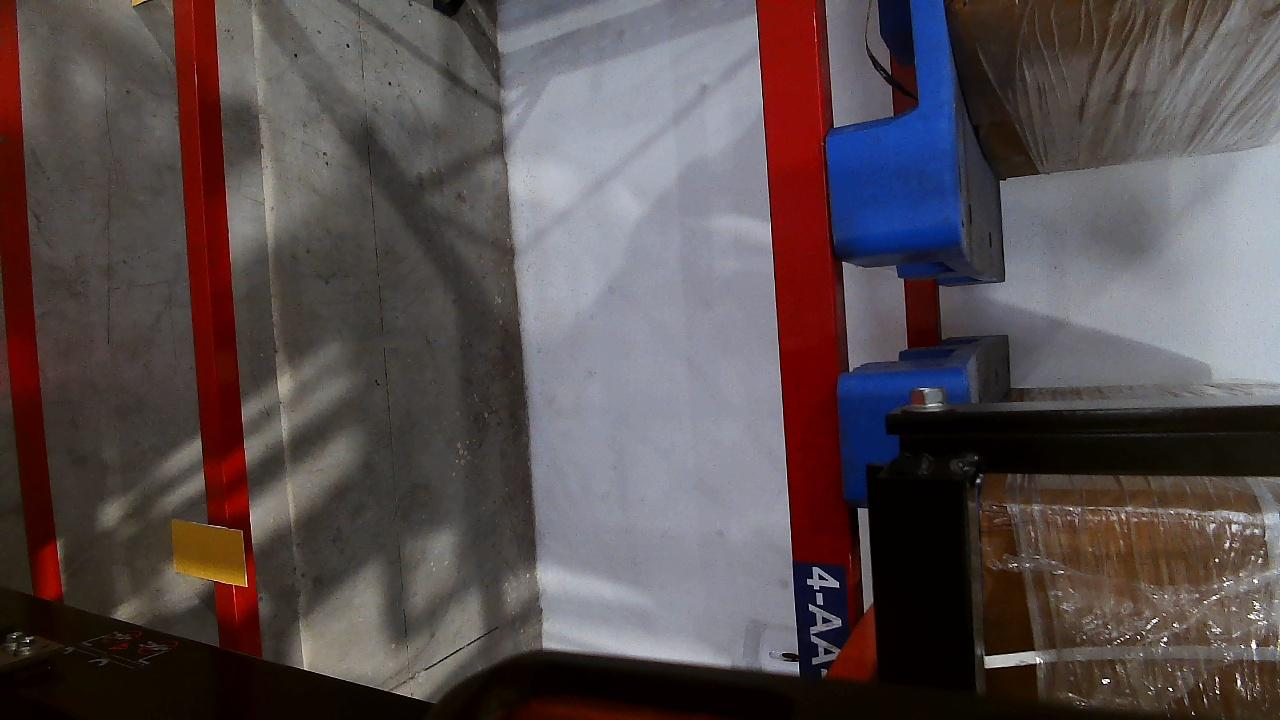h_rack: (755, 0, 848, 589)
orange_strip: (171, 520, 246, 588)
red_line: (0, 70, 63, 597)
small_pallet: (817, 0, 963, 243)
